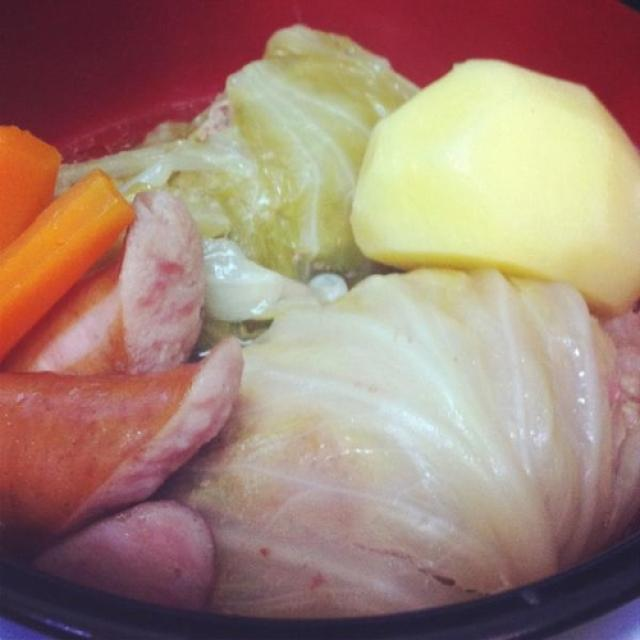汤锅炖物: (12, 32, 627, 616)
